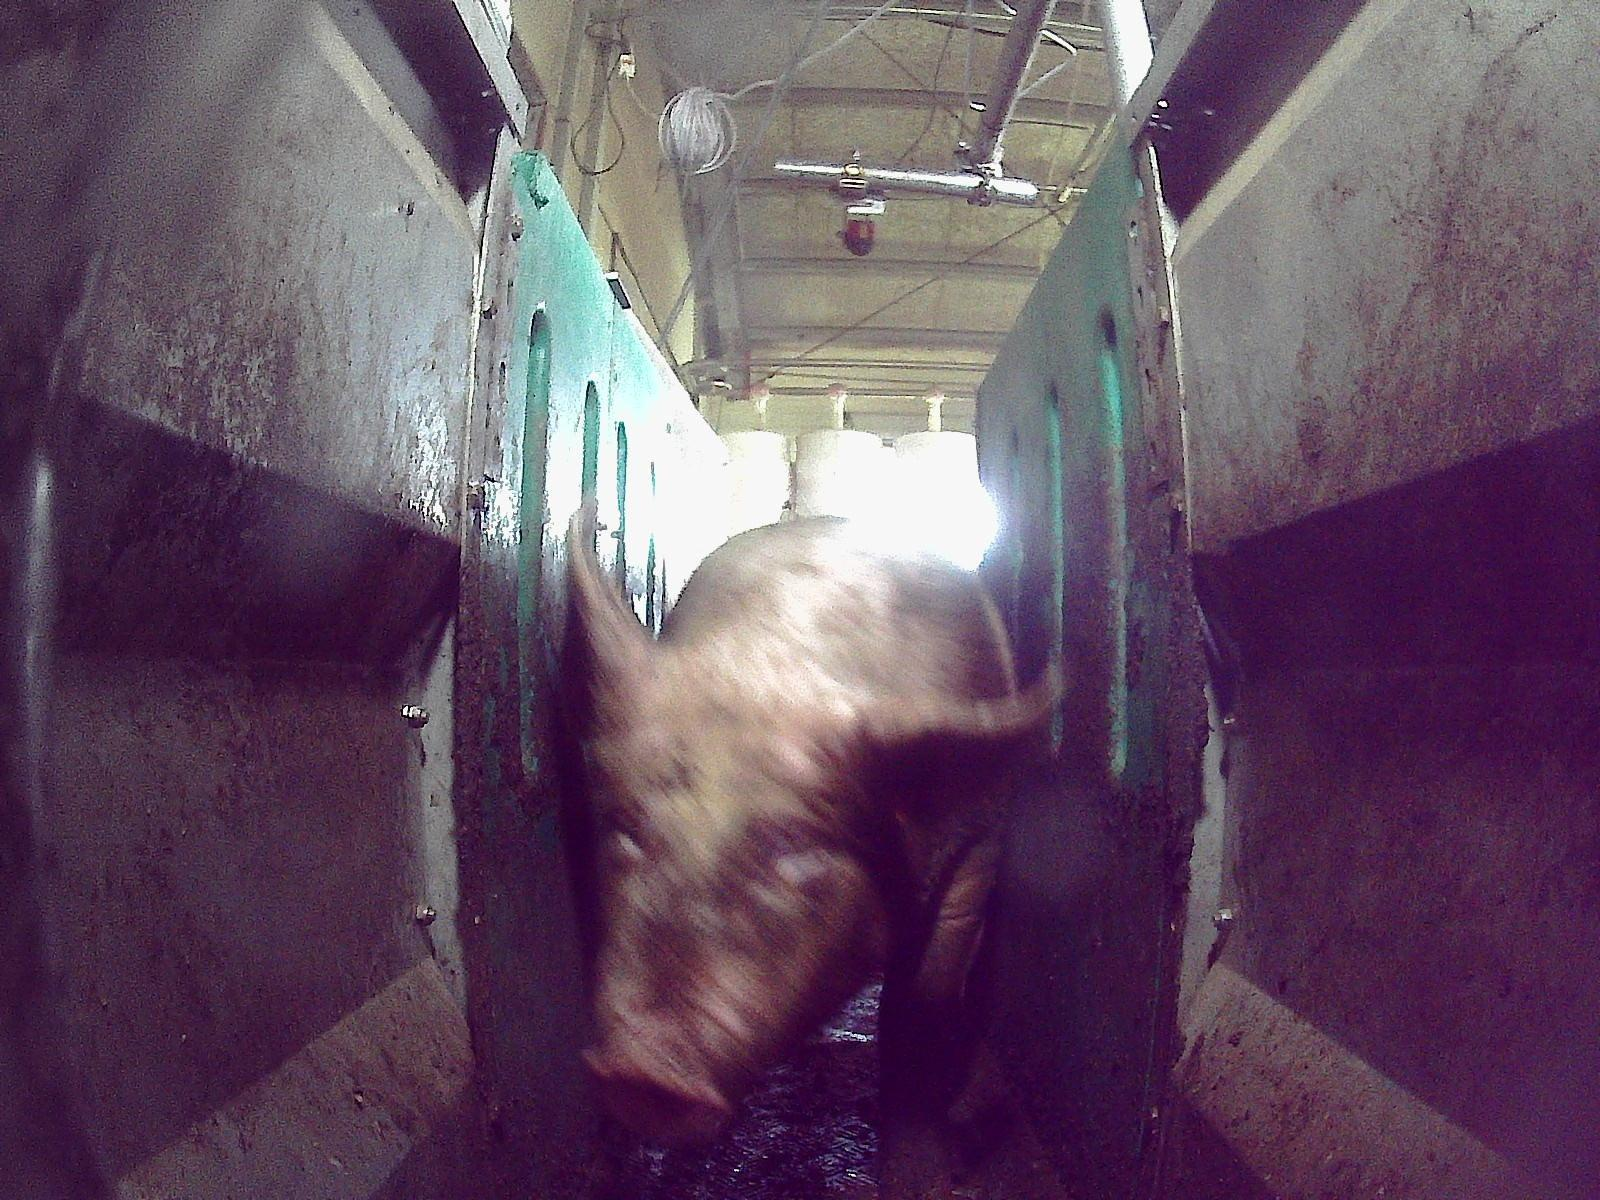Face: (575, 687, 888, 1140)
